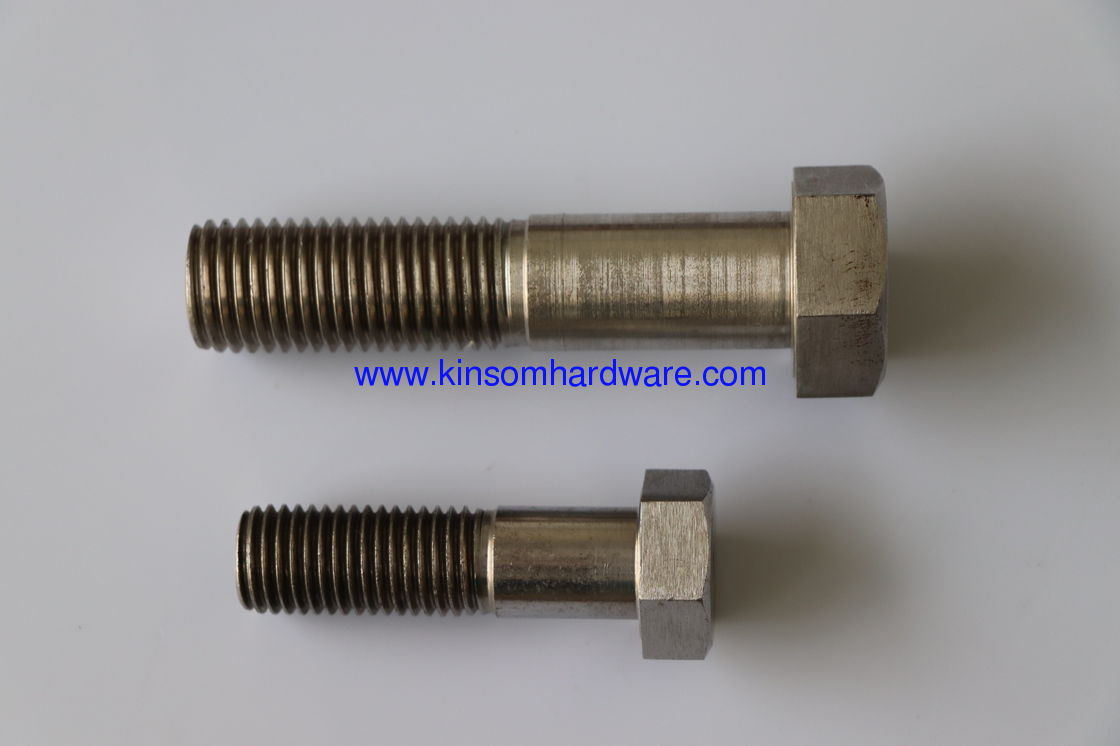screw: (185, 164, 891, 400), (237, 468, 716, 663)
